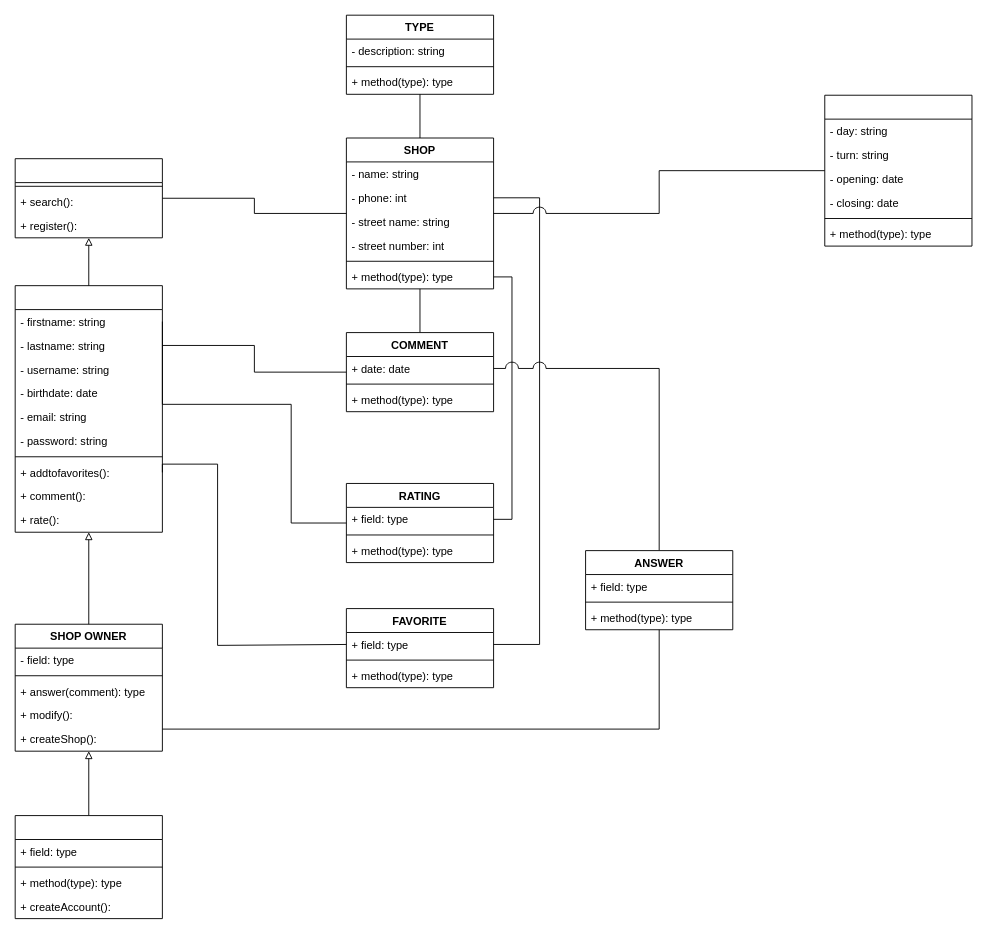
This 987x934 diagram has some shape labels left out. Each missing label, with the box of its shape:
ADMINISTRATOR: (14, 815, 162, 919)
REGISTERED USER: (14, 285, 162, 532)
SCHEDULE: (824, 94, 972, 246)
USER: (14, 158, 162, 238)
